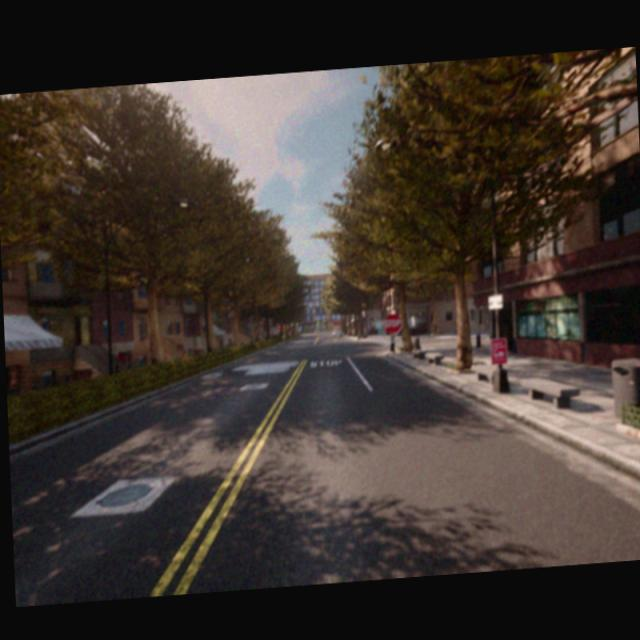stop sign: (382, 309, 403, 336)
